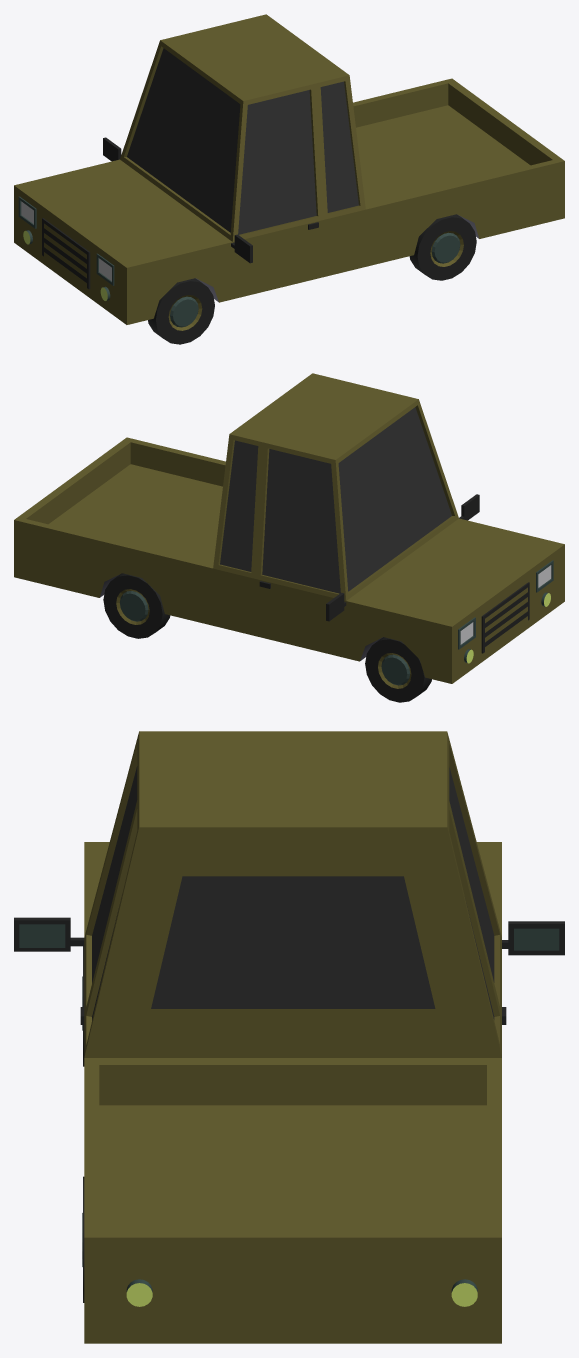
Rendered from pick up2.FBX.
3 renders of one model, top to bottom at view 1: azimuth 30°, elevation 25°; view 2: azimuth 150°, elevation 25°; view 3: azimuth 270°, elevation 25°, orthographic. The views are drawn at different scales.
Visible parts, largest first — view 1: pick up2; view 2: pick up2; view 3: pick up2.
Part boxes in pixels (x1,y1,x2,y2): pick up2: (14, 14, 564, 344); pick up2: (14, 373, 564, 702); pick up2: (14, 731, 564, 1343).
Bounding box in the file's own units: 11.38 × 5.22 × 6.6.
